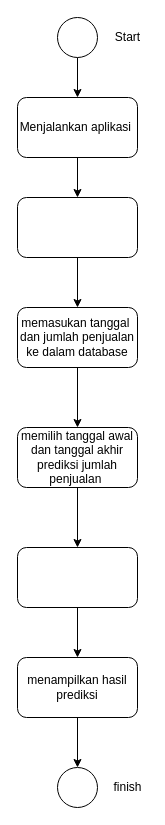
Image size: 165x825. Some labels were removed from this diagram. Each missing label, with the centre of its shape:
input tanggal dan jumlah penjualan: (x=77, y=227)
proses prediksi: (x=77, y=577)
